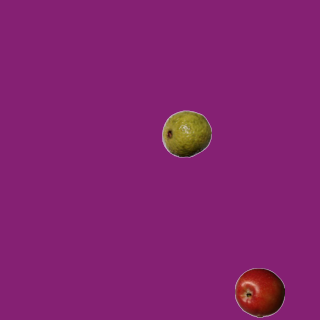Apple Braeburn: (234, 267, 284, 317)
Guava: (161, 108, 211, 158)
